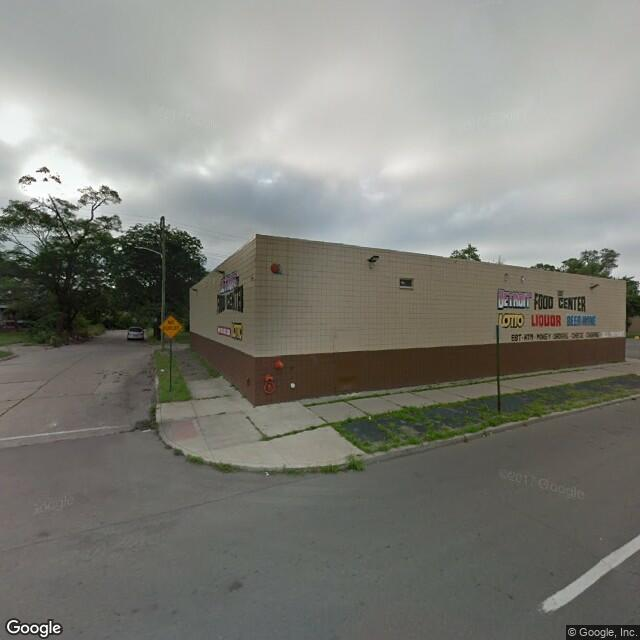litter: (263, 469, 270, 479), (158, 366, 166, 373), (367, 414, 372, 419)
